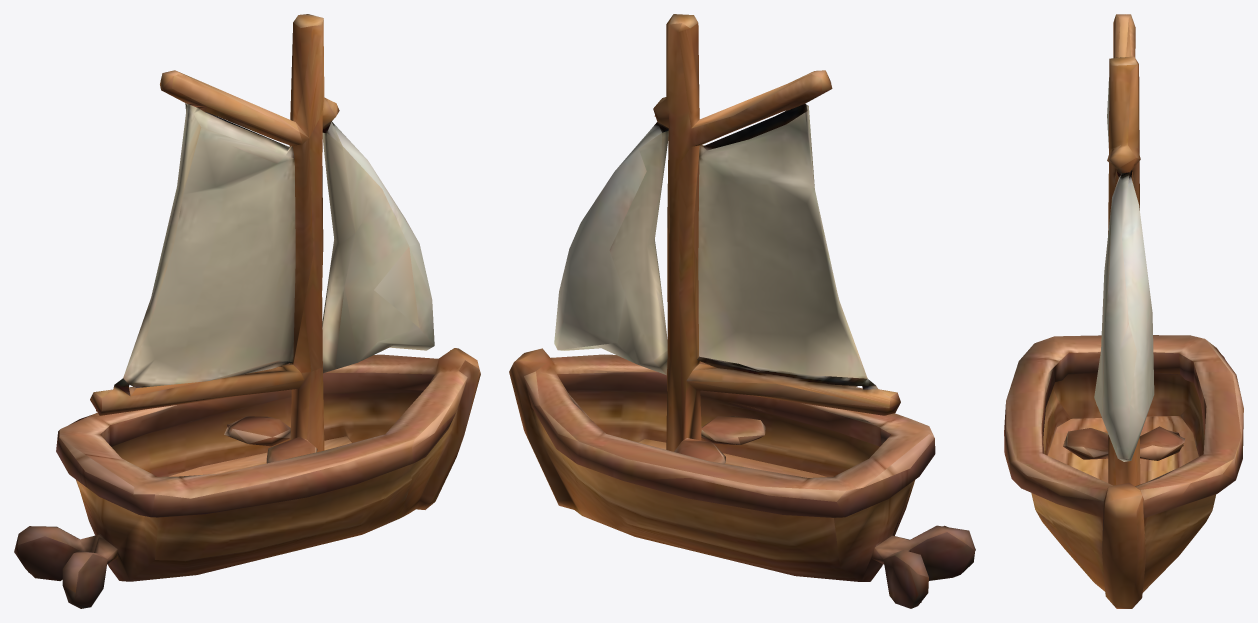
Rendered from lg-small-sailboat.glb.
3 renders of one model, left to right at view 1: azimuth 30°, elevation 25°; view 2: azimuth 150°, elevation 25°; view 3: azimuth 270°, elevation 25°, orthographic. The views are drawn at different scales.
Visible parts, largest first — view 1: geometry_0; view 2: geometry_0; view 3: geometry_0.
Boxes of the visible parts, x1,y1,x2,y2 form: geometry_0: [14, 14, 480, 608]; geometry_0: [509, 14, 975, 608]; geometry_0: [1004, 14, 1243, 608].
Bounding box in the file's own units: 0.885 × 1 × 0.4366.
Materials: 1 (1 with a texture image).
